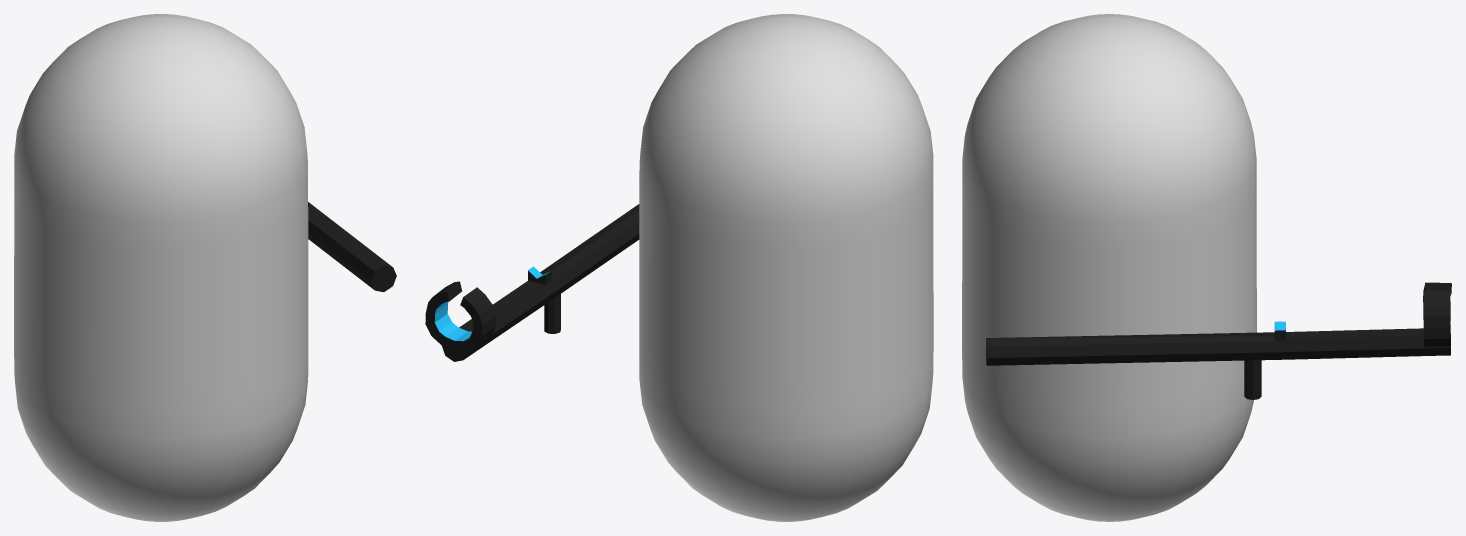
The model's file is player_weapon.dae.
3 renders of one model, left to right at view 1: azimuth 30°, elevation 25°; view 2: azimuth 150°, elevation 25°; view 3: azimuth 270°, elevation 25°, orthographic.
Visible parts, largest first — view 1: PlayerModel, Weapon; view 2: PlayerModel, Weapon; view 3: PlayerModel, Weapon.
Boxes of the visible parts, bbox=[...] form: PlayerModel: bbox=[14, 14, 308, 521]; Weapon: bbox=[308, 202, 396, 292]; PlayerModel: bbox=[639, 14, 933, 521]; Weapon: bbox=[425, 204, 639, 361]; PlayerModel: bbox=[962, 14, 1256, 521]; Weapon: bbox=[986, 282, 1451, 399].
Size of the model in its own units: 1.25 by 1.66 by 1.8.
1 material, 1 textured.
